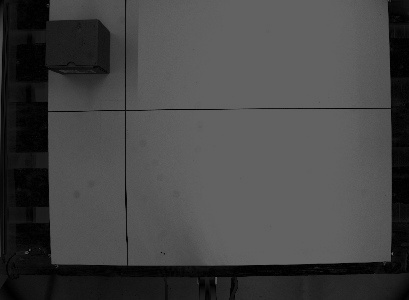b5: (42, 17, 111, 76)
